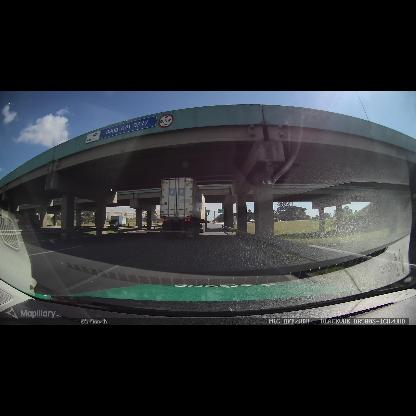R-15: (158, 114, 173, 128)
